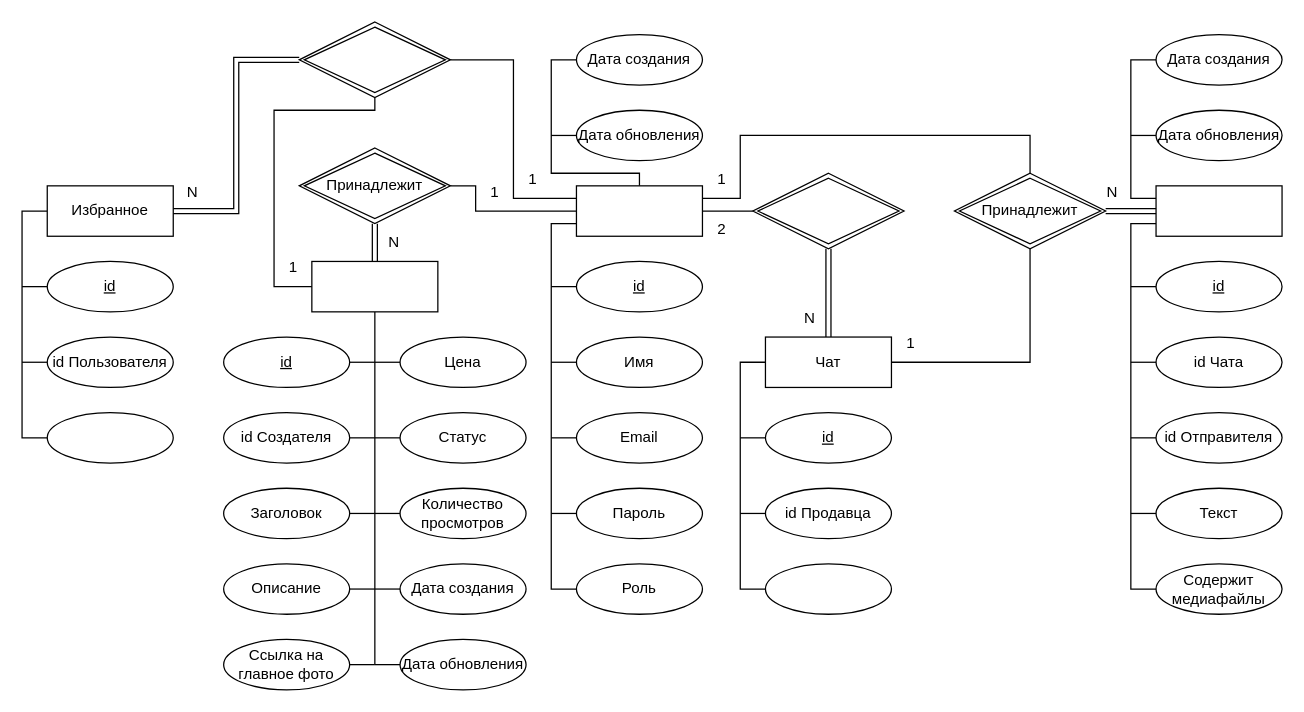
Some shapes in this 1304 by 712 pixel diagram are drawn without their labels. The box of each missing label's shape, as (x1, y1, x2, y2) in pixels:
id Объявления: (46, 411, 173, 463)
id Покупателя: (764, 563, 891, 614)
Имеет: (752, 172, 904, 249)
Объявление: (311, 260, 438, 312)
Пользователь: (575, 185, 702, 236)
Сообщение: (1155, 185, 1282, 236)
Ссылается на: (298, 21, 450, 98)
